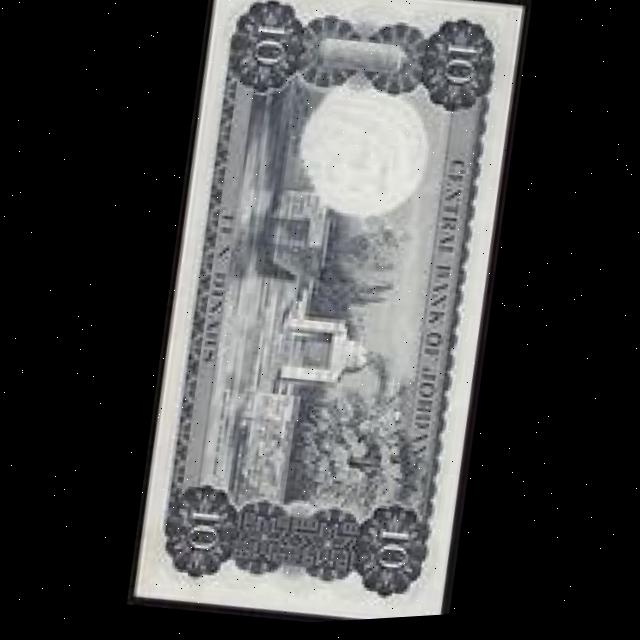banknote: (118, 0, 542, 635)
